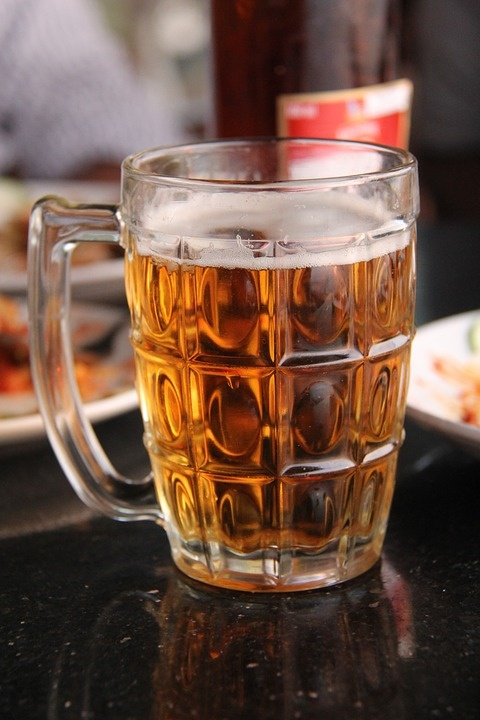glassBeer: (50, 142, 424, 587)
